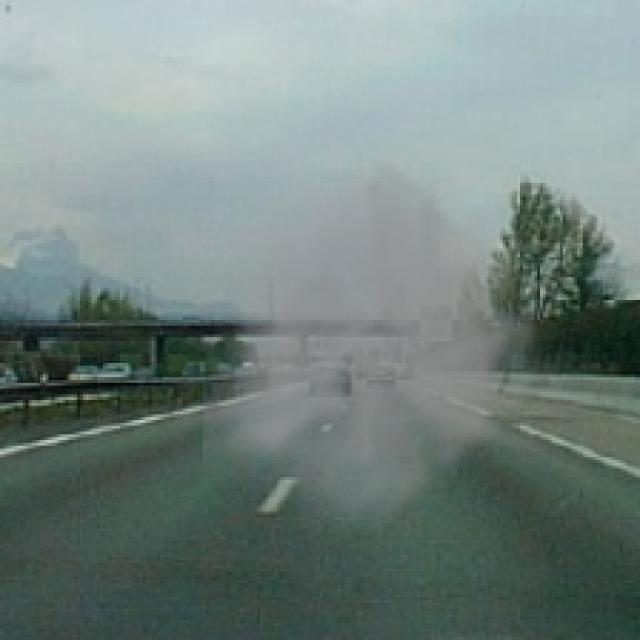Smoke: (203, 143, 580, 552)
